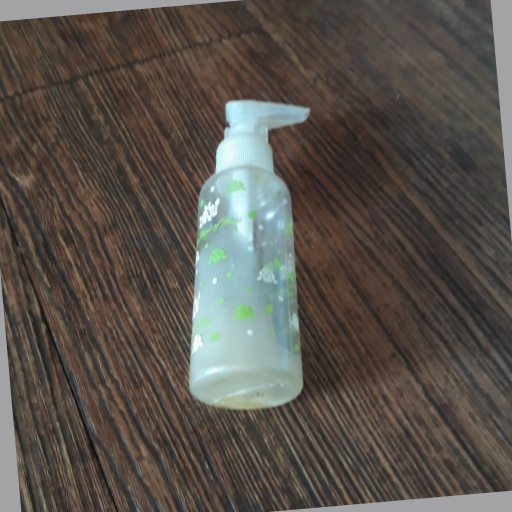Plastic_3: (186, 97, 316, 411)
